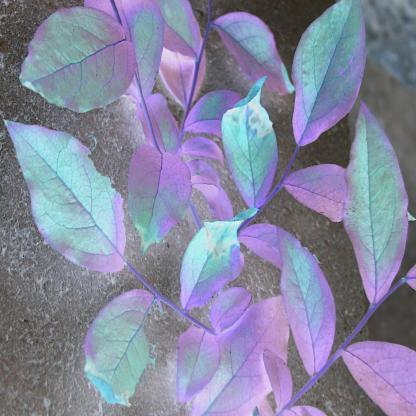Blueberry leaf: (6, 121, 138, 280), (337, 103, 408, 315), (188, 291, 298, 416), (17, 5, 144, 111), (266, 218, 343, 382), (290, 3, 367, 148), (74, 288, 162, 404), (172, 213, 254, 314), (124, 134, 192, 252), (212, 19, 296, 97), (211, 286, 253, 338)
